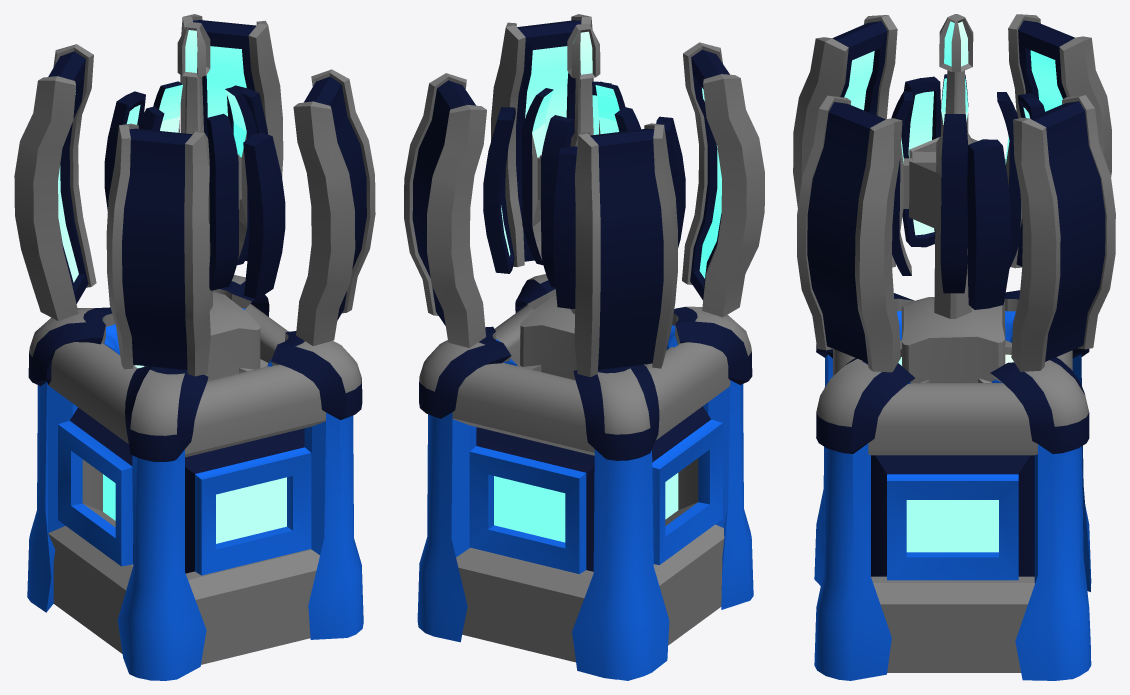
File: hacker_kule_seviye_2.fbx
3 views of the same model, side by side, from view 1: azimuth 30°, elevation 25°; view 2: azimuth 150°, elevation 25°; view 3: azimuth 270°, elevation 25° (orthographic). The views are drawn at different scales.
Parts seen in each view (by area): view 1: Cube.010, Cube.030, Cube.031; view 2: Cube.010, Cube.030, Cube.031; view 3: Cube.010, Cube.030, Cube.031.
Part boxes in pixels (box(x1,y1,x2,y2)): Cube.010: box(27, 22, 363, 680); Cube.030: box(14, 14, 375, 376); Cube.031: box(104, 85, 285, 298); Cube.010: box(417, 23, 753, 680); Cube.030: box(404, 14, 764, 377); Cube.031: box(483, 81, 685, 308); Cube.010: box(814, 14, 1091, 680); Cube.030: box(793, 14, 1115, 372); Cube.031: box(901, 76, 1044, 309).
Bounding box in the file's own units: 269 × 562 × 269.
